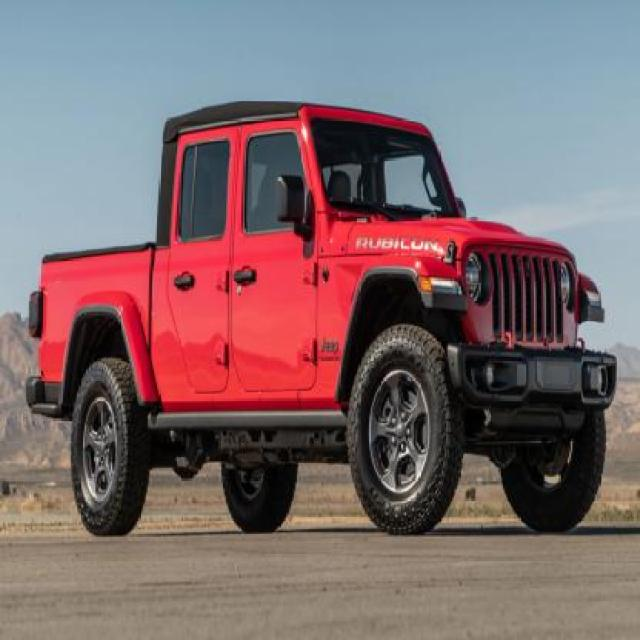Jeep: (24, 95, 614, 531)
